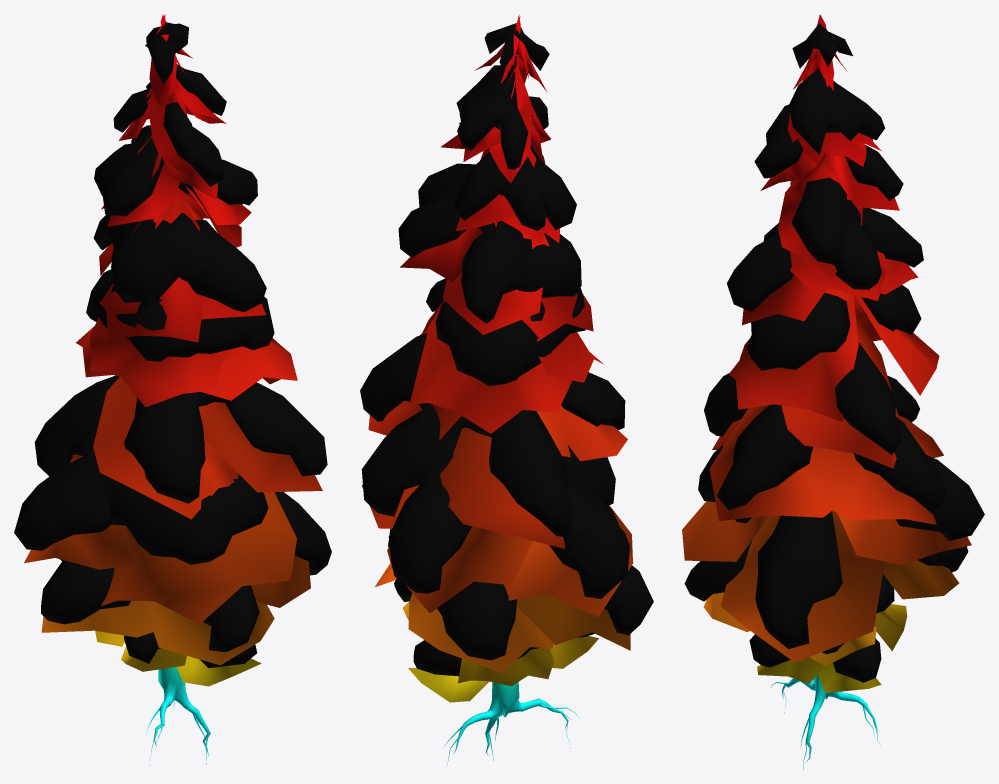
Rendered from SnowFir1.fbx.
The picture shows the model from 3 angles, left to right: view 1: azimuth 30°, elevation 25°; view 2: azimuth 150°, elevation 25°; view 3: azimuth 270°, elevation 25°; orthographic projection. The views are drawn at different scales.
Visible parts, largest first — view 1: SnowFir1_LOD0; view 2: SnowFir1_LOD0; view 3: SnowFir1_LOD0.
Boxes of the visible parts, x1=… form: SnowFir1_LOD0: x1=14, y1=14, x2=331, y2=765; SnowFir1_LOD0: x1=360, y1=14, x2=653, y2=766; SnowFir1_LOD0: x1=682, y1=14, x2=984, y2=769.
Size of what is drawn, in the model's own units: 244 by 650 by 241.
